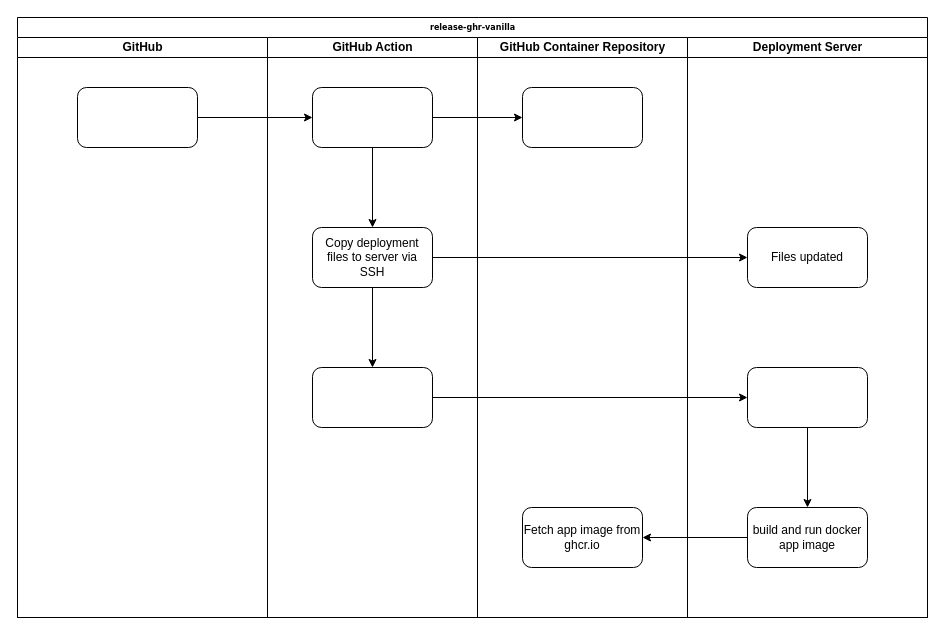
Image size: 945x635. Some labels were removed from this diagram. Here are the shapes that lost their labels. From the top down, the centre of each, then its label:
(137,117): New release
(372,117): Build Docker image
(582,117): Push Docker Image
(372,397): Run docker compose remotely via SSH
(807,397): docker compose up
